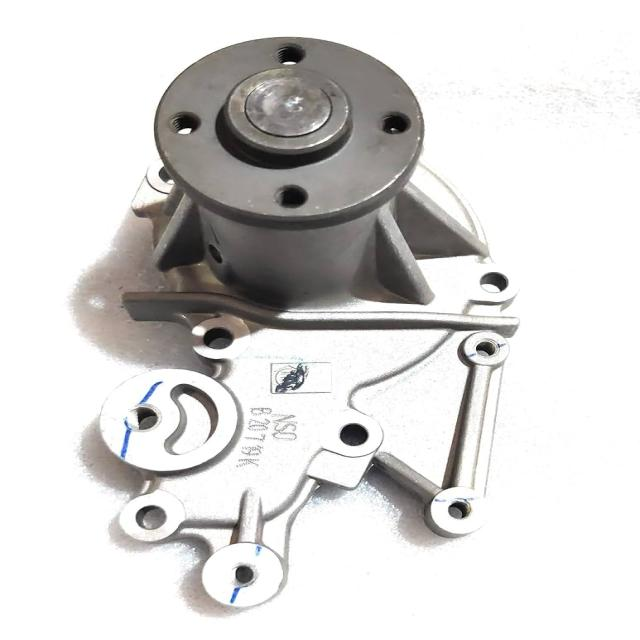video2: (98, 36, 523, 611)
